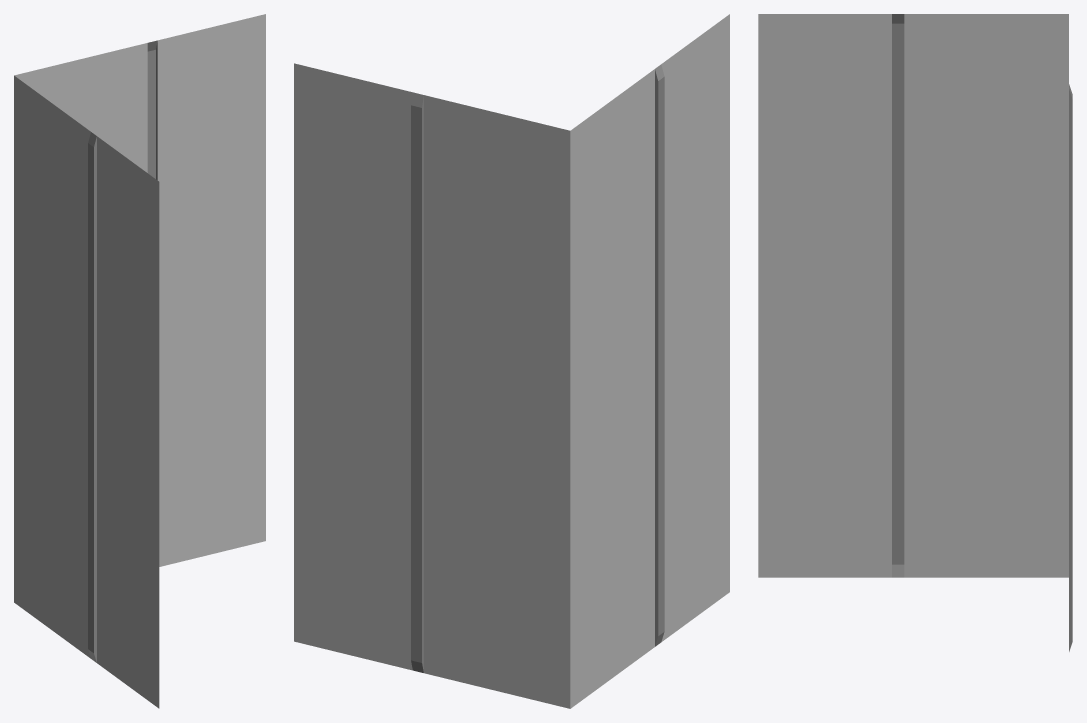
File: Ext-ConcreteCorner-Inv.fbx
3 renders of one model, left to right at view 1: azimuth 30°, elevation 25°; view 2: azimuth 150°, elevation 25°; view 3: azimuth 270°, elevation 25°, orthographic. The views are drawn at different scales.
Visible parts, largest first — view 1: Ext-ConcreteCorner-Inv; view 2: Ext-ConcreteCorner-Inv; view 3: Ext-ConcreteCorner-Inv.
Boxes of the visible parts, x1,y1,x2,y2 form: Ext-ConcreteCorner-Inv: (14, 14, 265, 708); Ext-ConcreteCorner-Inv: (294, 14, 729, 708); Ext-ConcreteCorner-Inv: (758, 14, 1072, 651).
Size of the model in its own units: 101 by 200 by 101.
